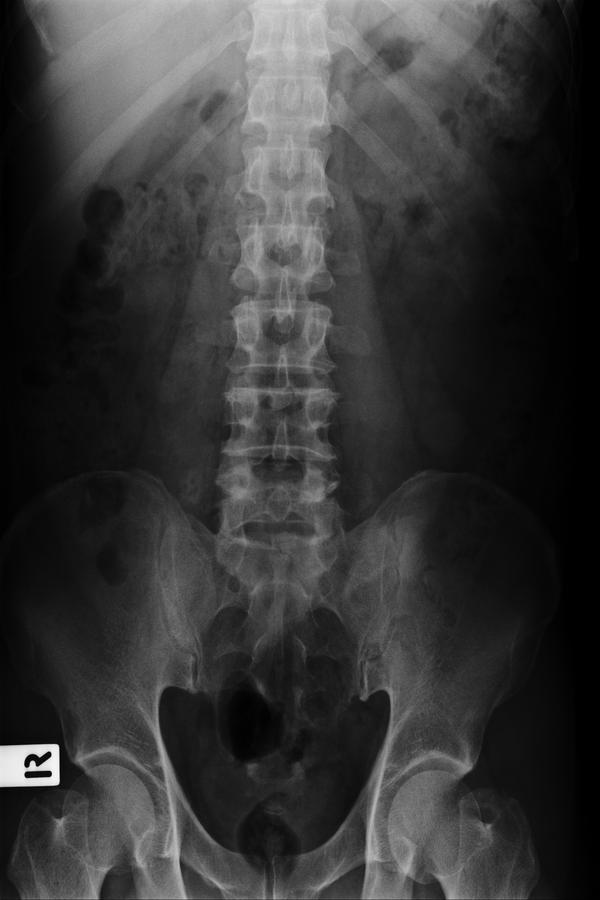not lumbar scoliosis: (222, 189, 344, 559)
